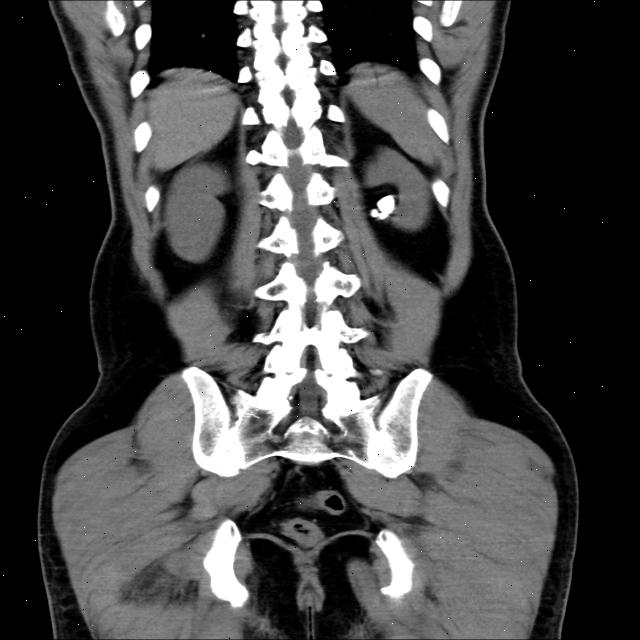kidneystone: (370, 195, 396, 219)
